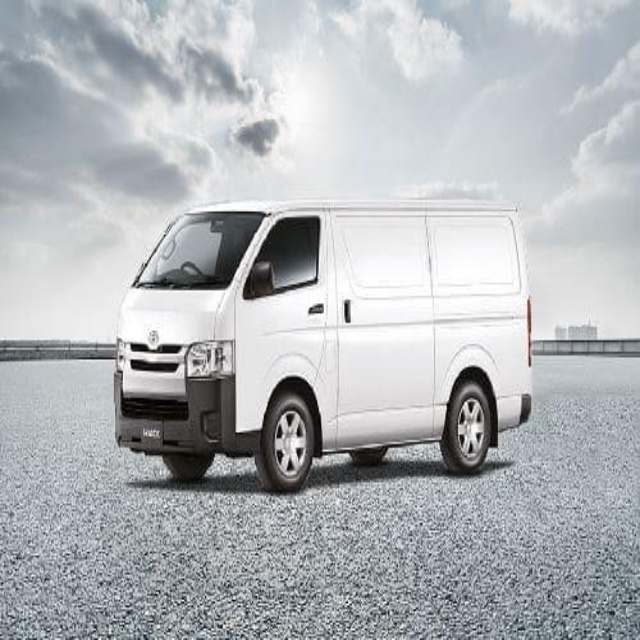Van: (113, 196, 532, 494)
